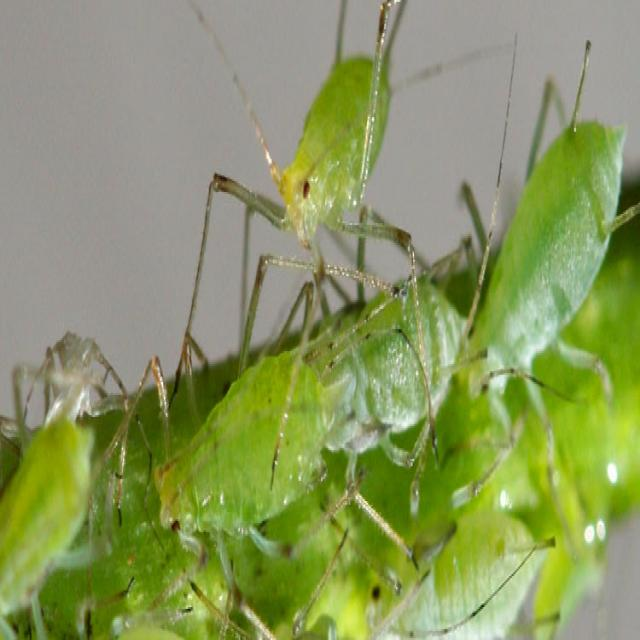Aphid-Grown-: (448, 63, 631, 443), (222, 9, 432, 259), (137, 319, 330, 560)
